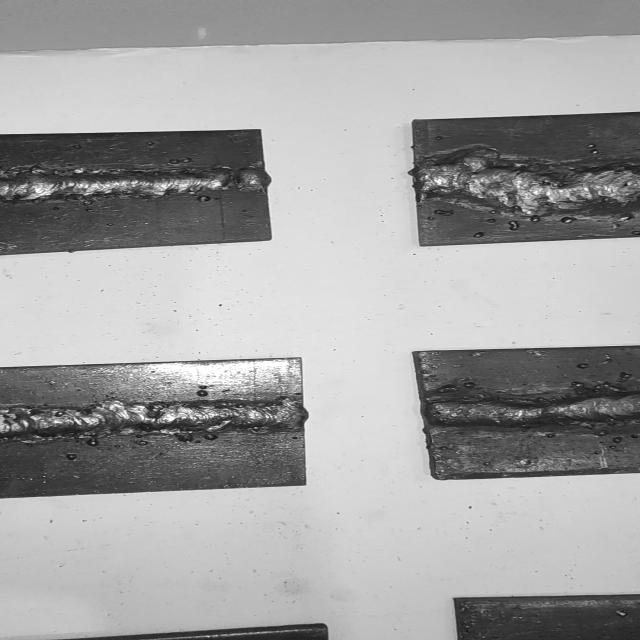Bad Weld: (423, 160, 640, 220), (0, 400, 303, 442), (0, 163, 270, 205), (427, 388, 640, 428)
Defect: (415, 158, 640, 222), (565, 372, 637, 401), (217, 163, 273, 199), (429, 379, 495, 405), (166, 426, 227, 446)
